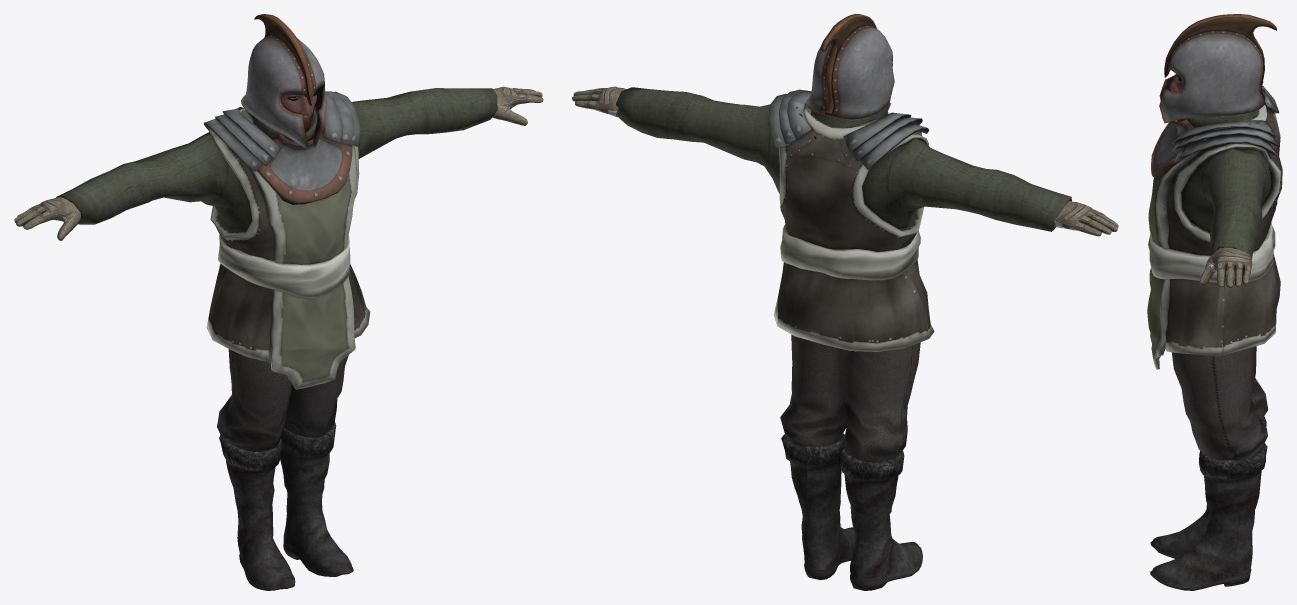
Rendered from strazj2.obj.
3 renders of one model, left to right at view 1: azimuth 30°, elevation 25°; view 2: azimuth 150°, elevation 25°; view 3: azimuth 270°, elevation 25°, orthographic. The views are drawn at different scales.
Parts seen in each view (by area): view 1: Tops, Shoes, Bottoms, Hats, Gloves; view 2: Tops, Shoes, Bottoms, Hats, Gloves; view 3: Tops, Shoes, Hats, Bottoms, Gloves.
Part boxes in pixels (x1,y1,x2,y2): Tops: (56, 88, 497, 389); Shoes: (219, 421, 353, 590); Bottoms: (217, 349, 348, 452); Hats: (241, 14, 326, 149); Gloves: (14, 86, 543, 240); Tops: (616, 87, 1071, 351); Shoes: (781, 433, 922, 590); Bottoms: (780, 334, 920, 462); Hats: (806, 14, 894, 119); Gloves: (572, 86, 1118, 236); Tops: (1147, 81, 1282, 369); Shoes: (1150, 416, 1267, 590); Hats: (1159, 14, 1276, 123); Bottoms: (1172, 346, 1268, 460); Gloves: (1199, 247, 1252, 287).
Size of the model in its own units: 191 by 188 by 41.58.
7 materials, 7 textured.
